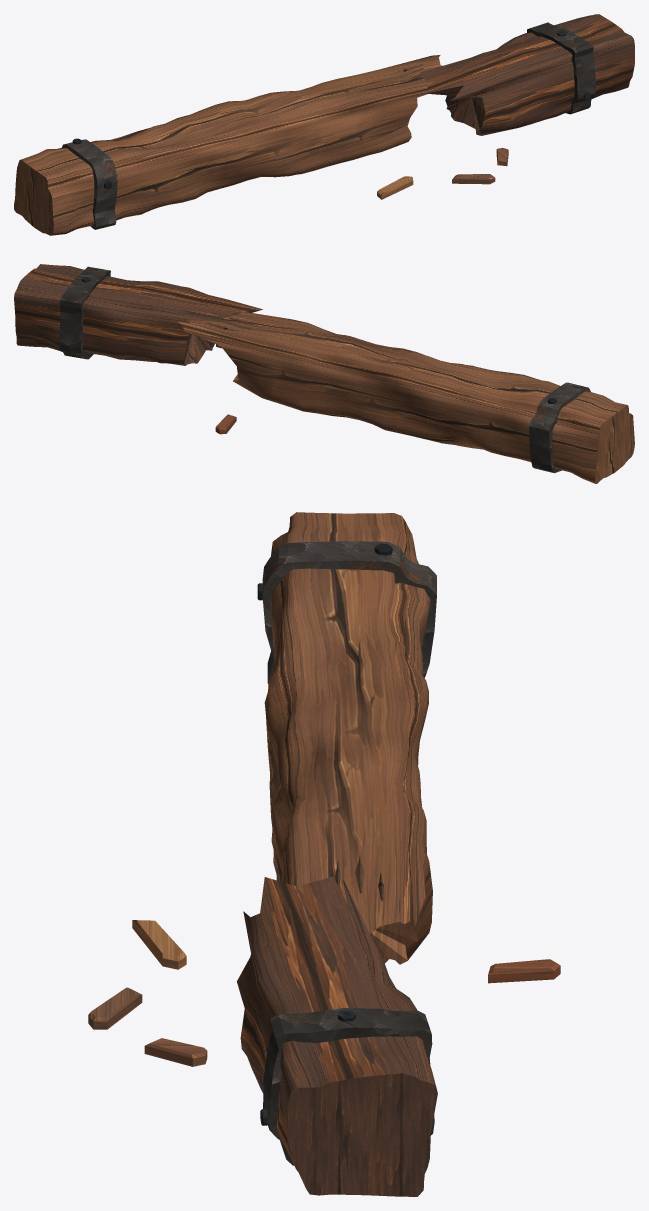
Rendered from junk_beam_snapped.glb.
3 renders of one model, top to bottom at view 1: azimuth 30°, elevation 25°; view 2: azimuth 150°, elevation 25°; view 3: azimuth 270°, elevation 25°, orthographic. The views are drawn at different scales.
Parts seen in each view (by area): view 1: model; view 2: model; view 3: model.
Part boxes in pixels (x1=…): model: x1=14, y1=14, x2=634, y2=235; model: x1=14, y1=264, x2=634, y2=483; model: x1=88, y1=512, x2=560, y2=1196.
Size of the model in its own units: 1.57 by 0.1858 by 0.5469.
Materials: 10 (10 with a texture image).
